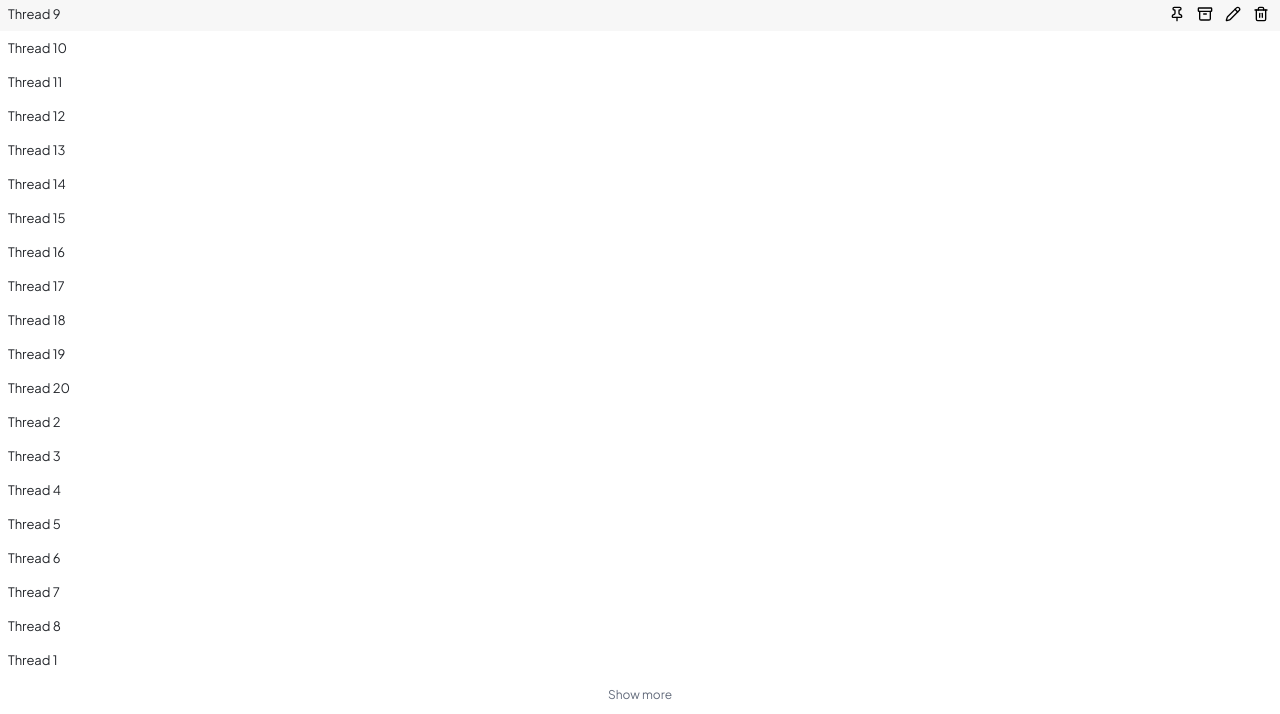
Scenario: HistoryList › groups named threads by date and pages beyond the first 20
The image size is (1280, 714).
(page scrolled)
Click the button "Show more": x=640, y=694 [8,681,1272,708]
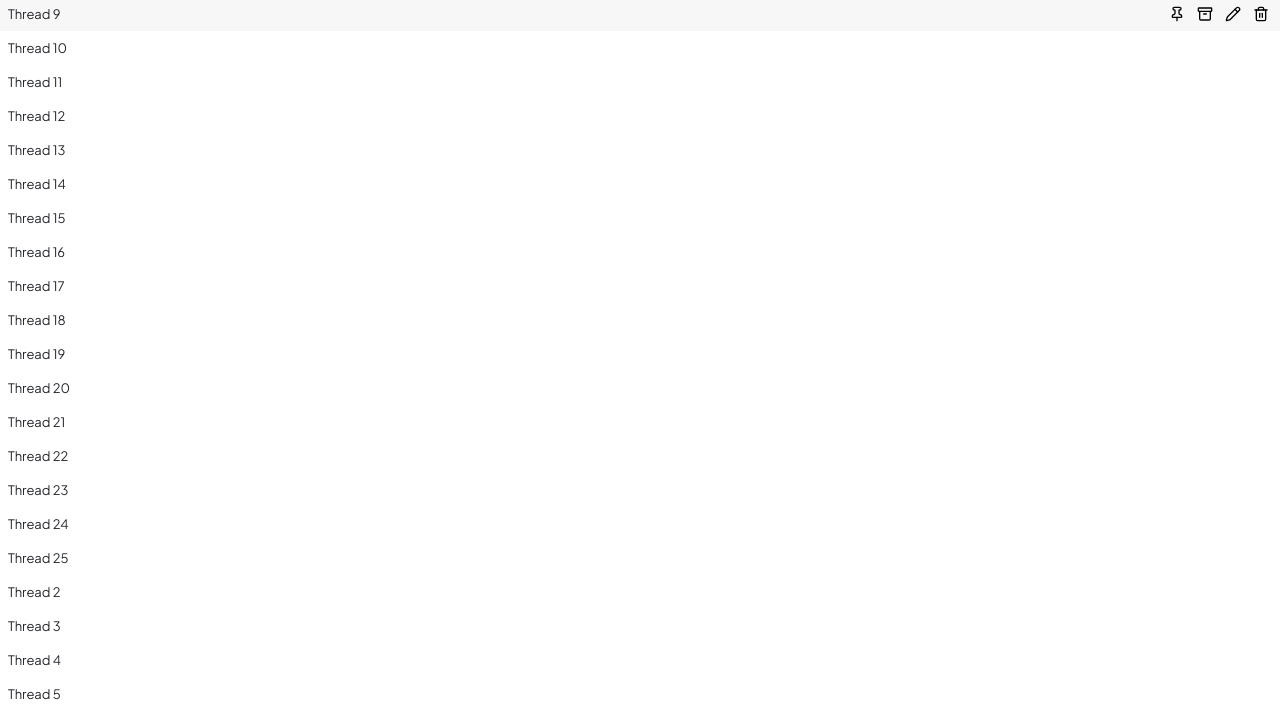
Now the button "Show more" is gone
